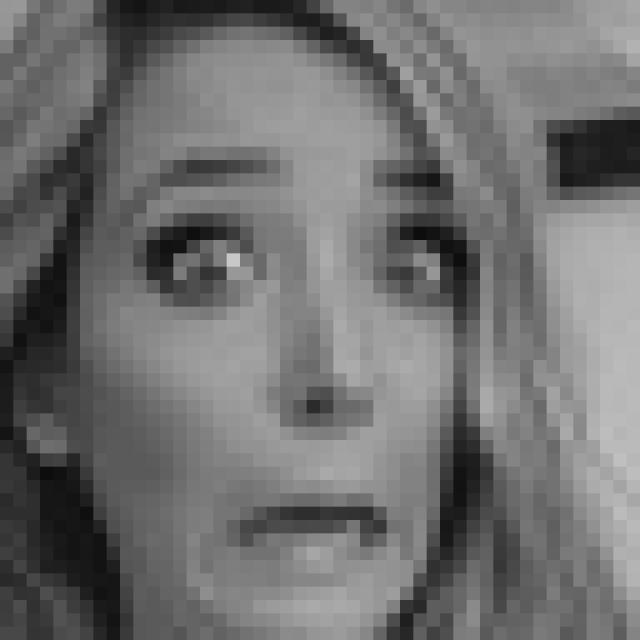fear: (125, 141, 466, 618)
